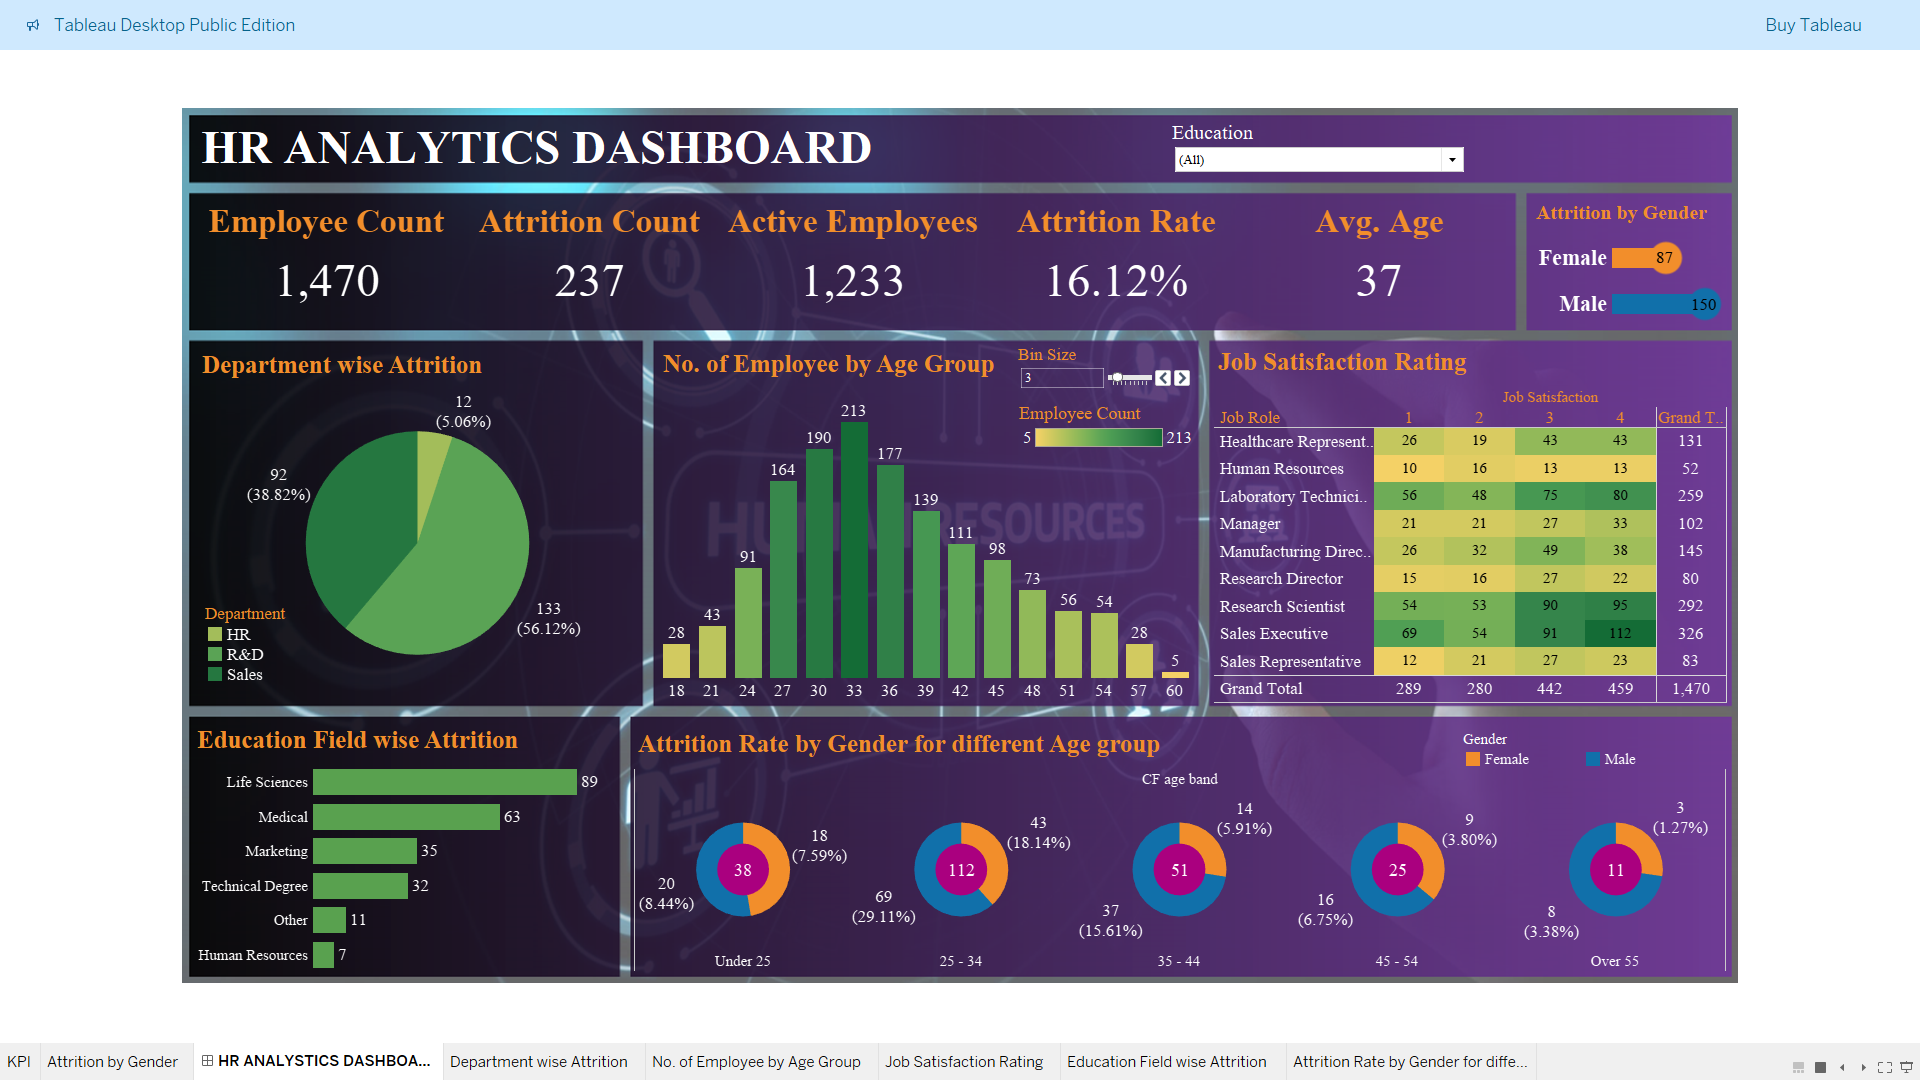

Layout of this report page (visuals, bound fields, positions):
{"tool":"tableau","page":{"name":"HR ANALYSTICS DASHBOARD","canvas":[1580,900],"ordinal":0},"visuals":[{"type":"image","param":"Image/HR background.png","box":[8,8,1564,884]},{"type":"filter","title":"Attrition Rate by Gender for different Age group","param":"[federated.0j68j980ugxpne14l3k2a00v7lzk].[none:Education:nk]","box":[1002,25,295,54]},{"type":"text","box":[28,33,961,37]},{"type":"worksheet","title":"Attrition by Gender","mark":"Automatic","rows":["Gender"],"cols":["Calculation_697213579297349632","Calculation_697213579297349632"],"box":[1362,101,194,130]},{"type":"worksheet","title":"KPI","mark":"Automatic","box":[25,104,1316,122]},{"type":"worksheet","title":"Job Satisfaction Rating","mark":"Square","rows":["Job Role"],"cols":["Job Satisfaction"],"box":[1044,248,513,359]},{"type":"parameter","param":"[Parameters].[Parameter 1]","box":[848,249,175,51]},{"type":"worksheet","title":"No. of Employee by Age Group","mark":"Automatic","rows":["Employee Count"],"cols":["Age (bin)"],"box":[489,250,534,355]},{"type":"worksheet","title":"Department wise Attrition","mark":"Pie","box":[28,251,439,349]},{"type":"legend","title":"No. of Employee by Age Group","param":"[federated.0j68j980ugxpne14l3k2a00v7lzk].[sum:Employee Count:qk]","box":[849,307,178,77]},{"type":"legend","title":"Department wise Attrition","param":"[federated.0j68j980ugxpne14l3k2a00v7lzk].[none:Department:nk]","box":[35,508,131,87]},{"type":"worksheet","title":"Education Field wise Attrition","mark":"Automatic","rows":["Education Field"],"cols":["Calculation_697213579297349632"],"box":[23,626,422,250]},{"type":"worksheet","title":"Attrition Rate by Gender for different Age group","mark":"Pie","rows":["Calculation_697213579339096068","Calculation_697213579339096068"],"cols":["CF_age band"],"box":[464,630,1092,246]},{"type":"legend","title":"Attrition Rate by Gender for different Age group","param":"[federated.0j68j980ugxpne14l3k2a00v7lzk].[none:Gender:nk]","box":[1293,635,264,46]}]}

Visuals, with their boxes on the page's 1580x900 design canvas (x1, y1, x2, y2). These are canvas units, not pixel positions in the 1920x1080 screenshot, which may show the page scaled, cropped or inside an application window:
image: 8:8:1572:892
"Attrition Rate by Gender for different Age group" filter: 1002:25:1297:79
text: 28:33:989:70
"Attrition by Gender" worksheet: 1362:101:1556:231
"KPI" worksheet: 25:104:1341:226
"Job Satisfaction Rating" worksheet (Square marks): 1044:248:1557:607
parameter: 848:249:1023:300
"No. of Employee by Age Group" worksheet: 489:250:1023:605
"Department wise Attrition" worksheet (Pie marks): 28:251:467:600
"No. of Employee by Age Group" legend: 849:307:1027:384
"Department wise Attrition" legend: 35:508:166:595
"Education Field wise Attrition" worksheet: 23:626:445:876
"Attrition Rate by Gender for different Age group" worksheet (Pie marks): 464:630:1556:876
"Attrition Rate by Gender for different Age group" legend: 1293:635:1557:681
